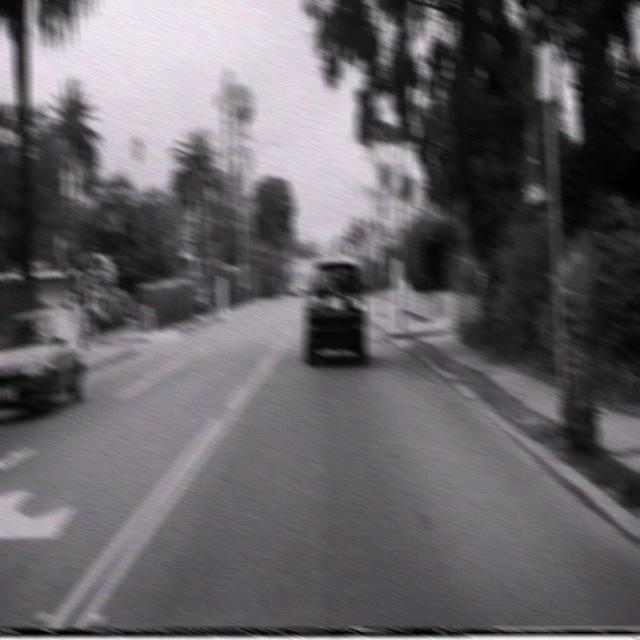pedestrianCrossing: (366, 213, 386, 248)
